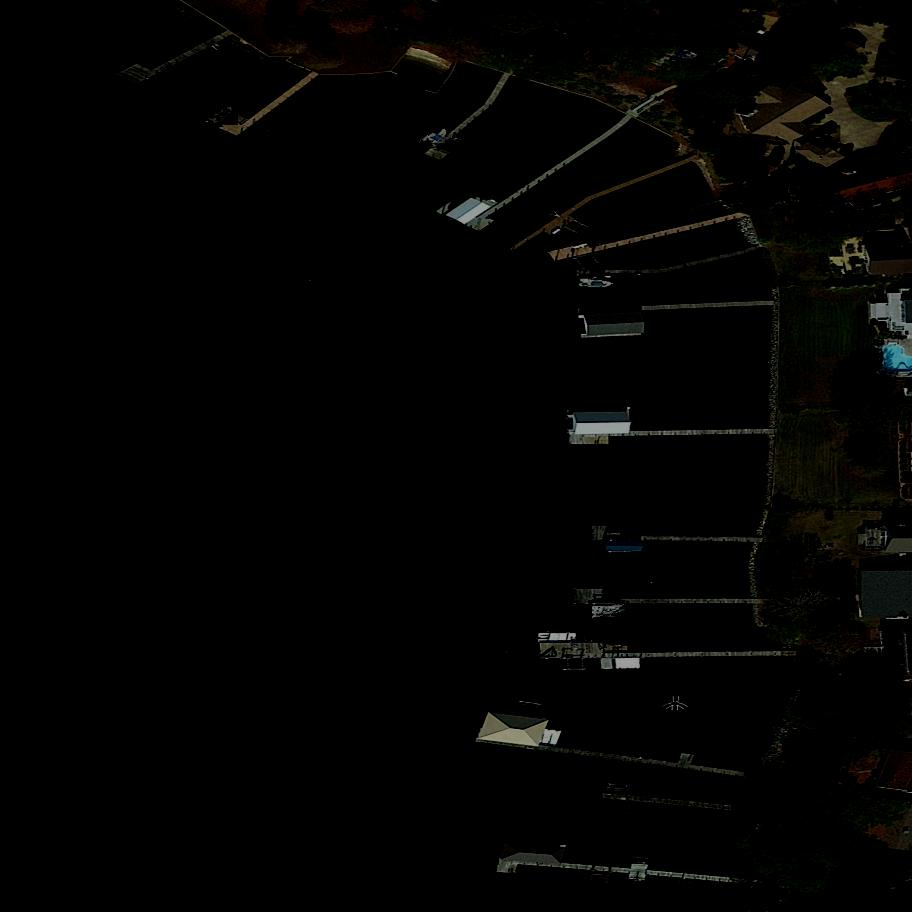ship: (421, 125, 452, 152), (209, 104, 239, 130), (593, 601, 628, 619), (579, 278, 613, 290)
small-vehicle: (809, 124, 840, 144)
